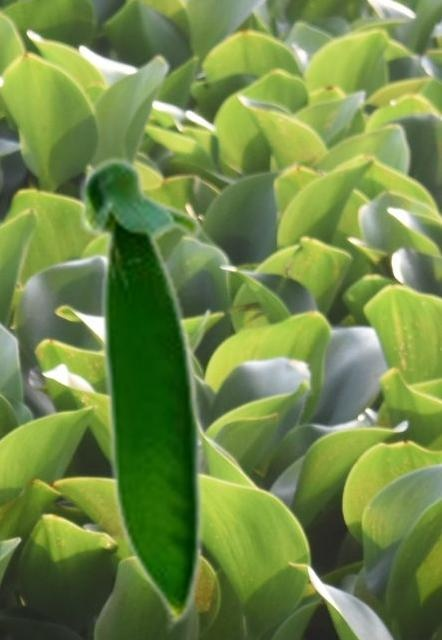pea: (76, 154, 204, 632)
